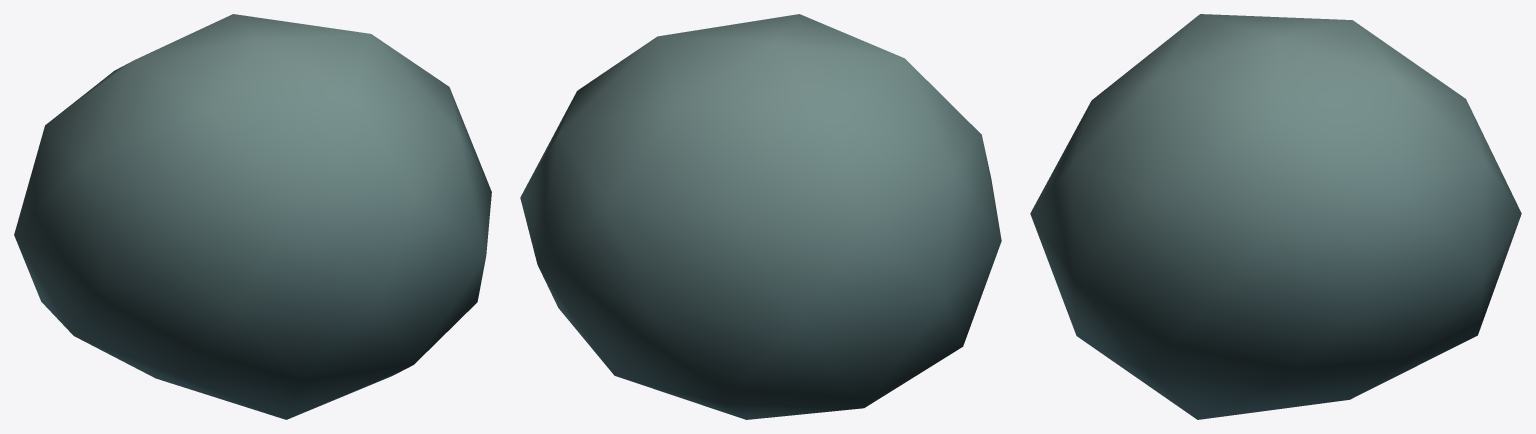
The model's file is shrub_m.glb.
The picture shows the model from 3 angles, left to right: view 1: azimuth 30°, elevation 25°; view 2: azimuth 150°, elevation 25°; view 3: azimuth 270°, elevation 25°; orthographic projection. The views are drawn at different scales.
Visible parts, largest first — view 1: ShrubM; view 2: ShrubM; view 3: ShrubM.
Part boxes in pixels (x1,y1,x2,y2): ShrubM: (14,14,491,419); ShrubM: (520,14,1001,419); ShrubM: (1030,14,1521,419).
Size of the model in its own units: 1.38 by 1.11 by 1.4.
